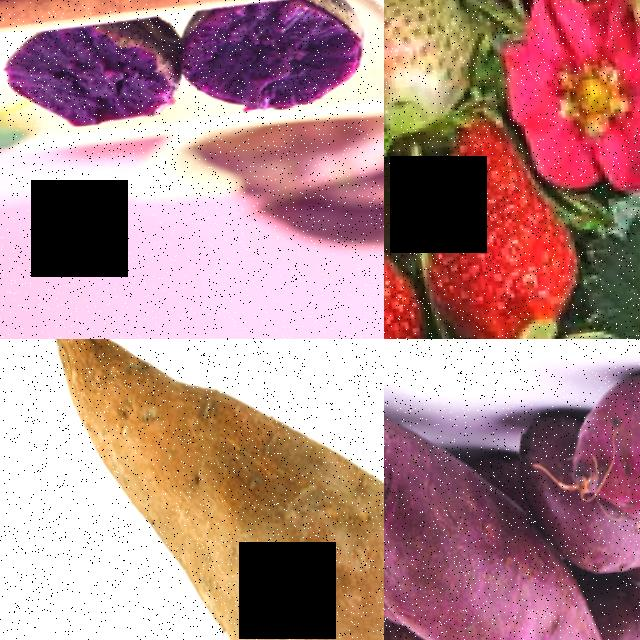strawberry: (408, 112, 587, 339), (384, 0, 481, 119)
sweet potato: (37, 339, 384, 640), (384, 358, 640, 640), (174, 0, 366, 116), (0, 15, 177, 138), (558, 345, 640, 584)
